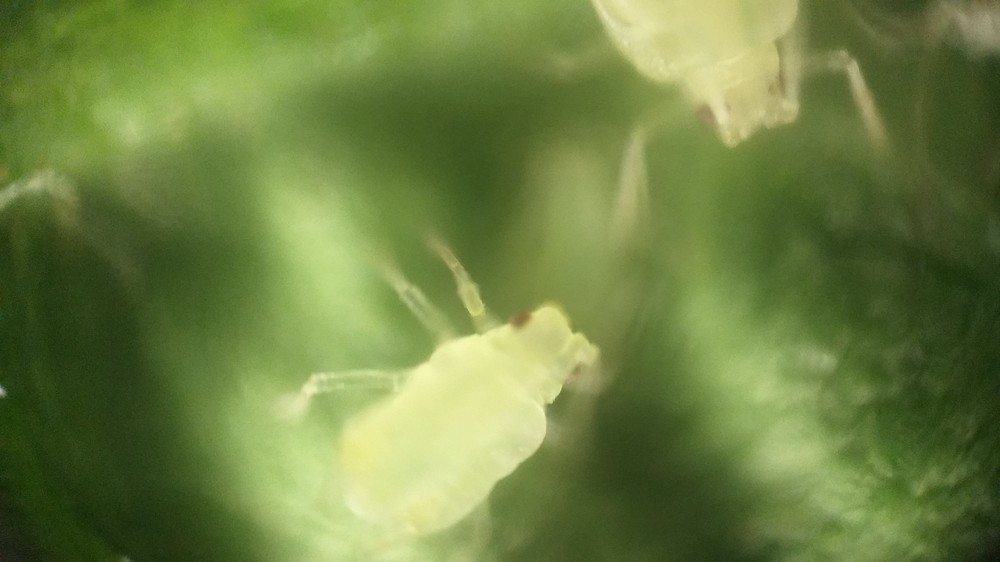Pulgon: (267, 246, 660, 544), (556, 3, 917, 221)
